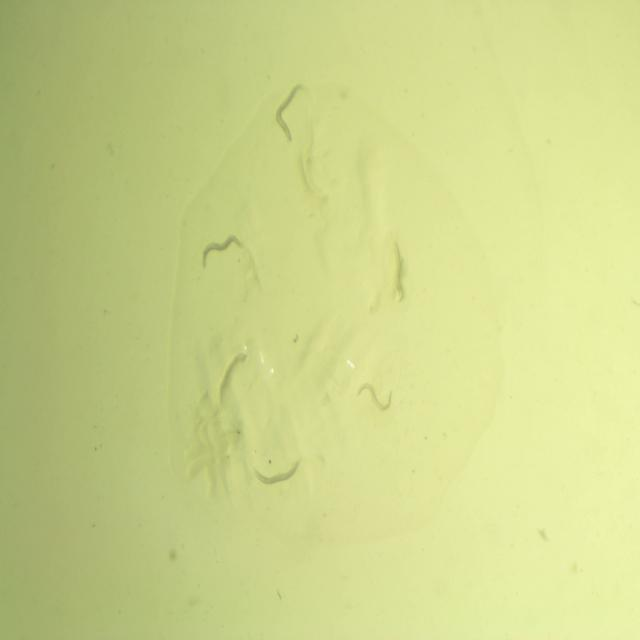worm: (272, 80, 307, 145), (216, 349, 252, 409), (200, 232, 244, 272), (354, 376, 395, 416), (251, 457, 301, 489), (391, 235, 409, 307)
